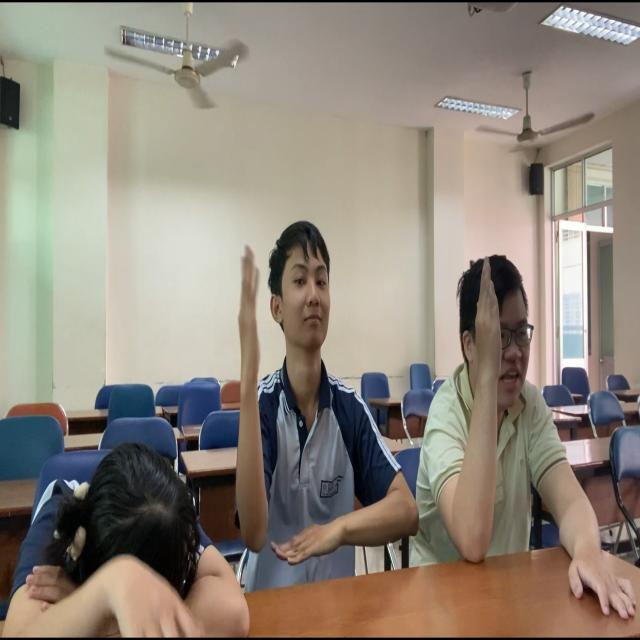raise_hand: (228, 206, 417, 612), (426, 234, 581, 587)
sleep: (1, 427, 237, 640)
